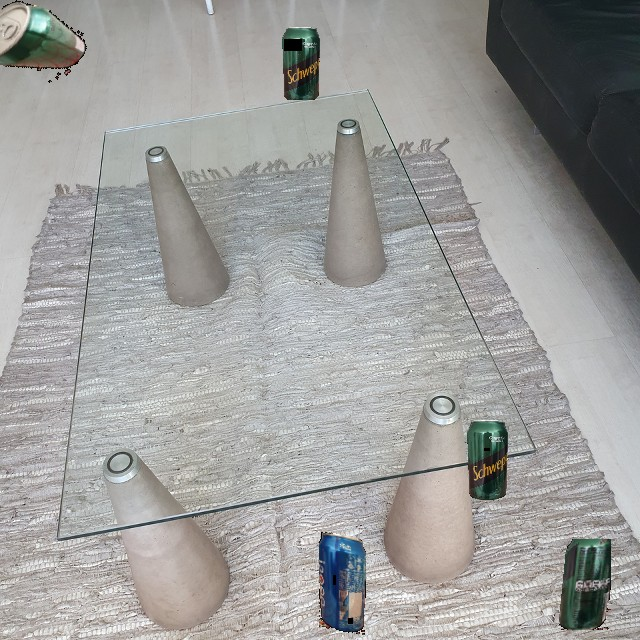pepsi: (319, 530, 366, 637)
schweppes: (0, 0, 102, 105), (558, 539, 611, 630), (467, 419, 509, 501), (282, 26, 321, 100)
